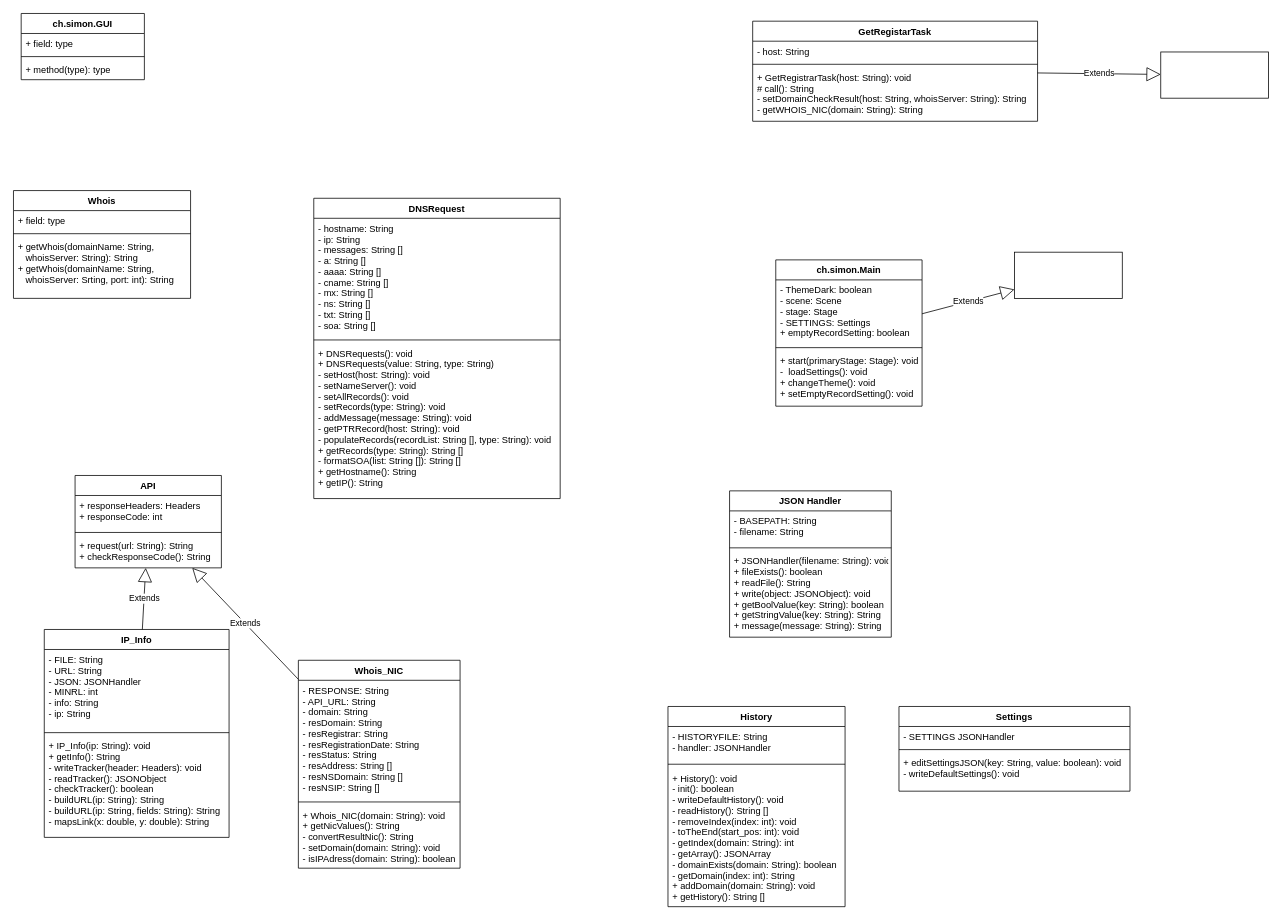
This 1282x922 diagram has some shape labels left out. Here are the shapes that lost their labels. From the top down, the centre of each, then its label:
the point at 1214,74: Task
the point at 1068,274: Application
